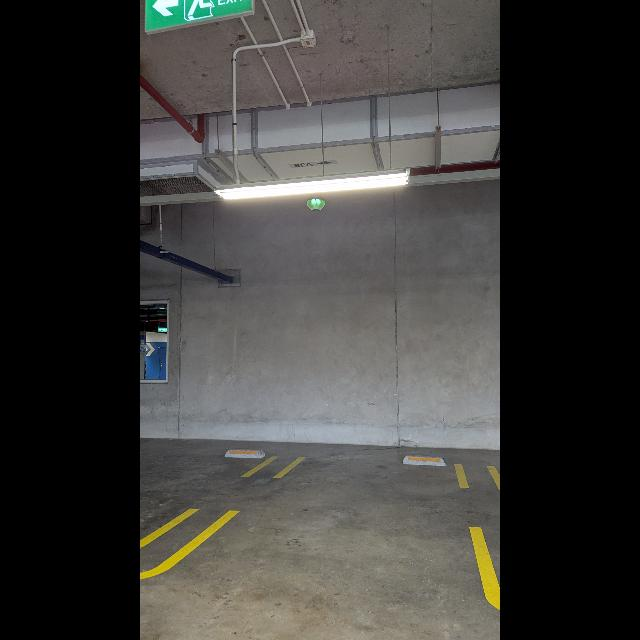exit: (145, 1, 255, 34)
